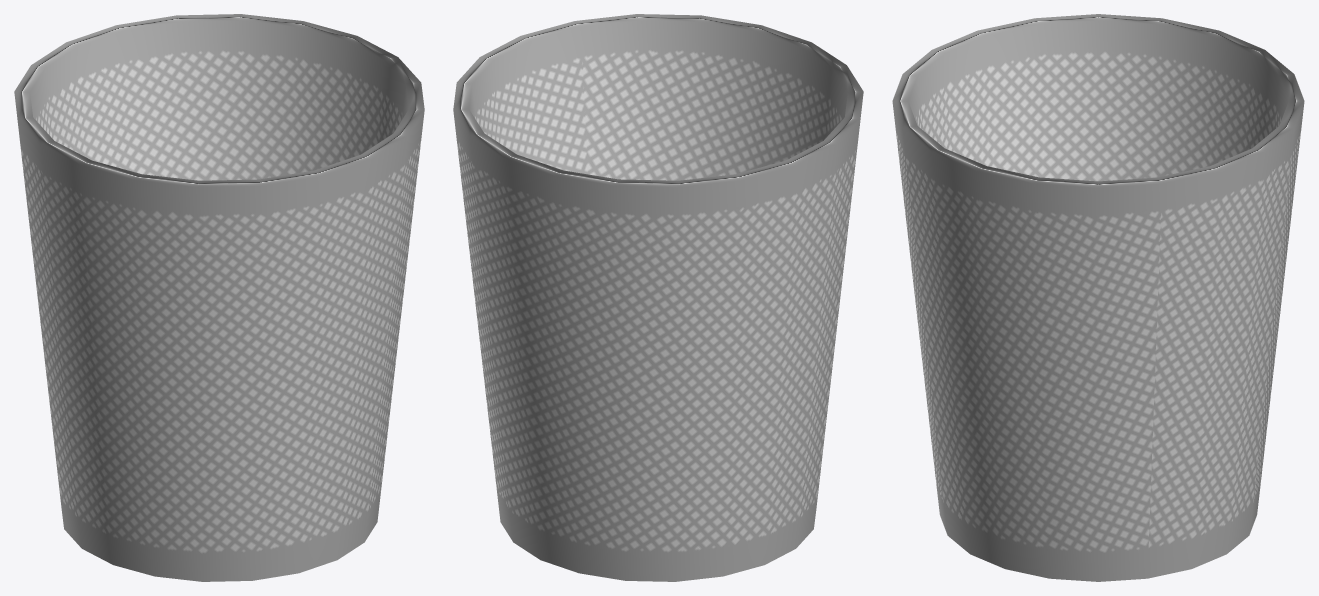
The model's file is boteDeBasura.gltf.
3 renders of one model, left to right at view 1: azimuth 30°, elevation 25°; view 2: azimuth 150°, elevation 25°; view 3: azimuth 270°, elevation 25°, orthographic.
Parts seen in each view (by area): view 1: trashcain; view 2: trashcain; view 3: trashcain.
Boxes of the visible parts, bbox=[...] form: trashcain: bbox=[14, 14, 424, 581]; trashcain: bbox=[453, 14, 863, 581]; trashcain: bbox=[892, 14, 1304, 581].
Bounding box in the file's own units: 0.2534 × 0.2808 × 0.2534.
1 material, 1 textured.
